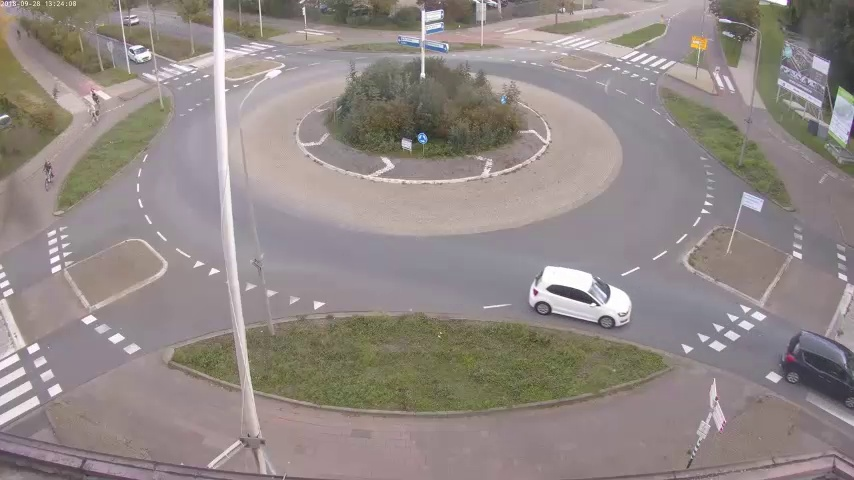bicycle: (89, 90, 103, 126), (41, 158, 54, 192)
car: (528, 265, 639, 329), (785, 329, 852, 407), (122, 41, 149, 62), (120, 11, 141, 25)
